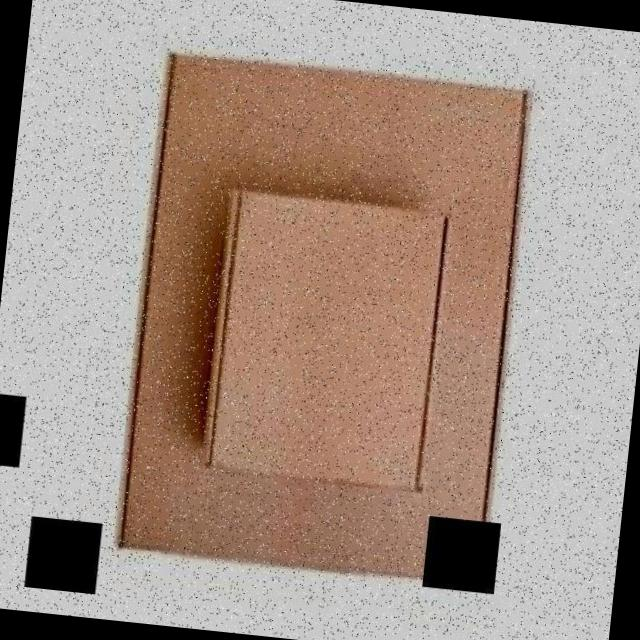box: (194, 183, 464, 508)
